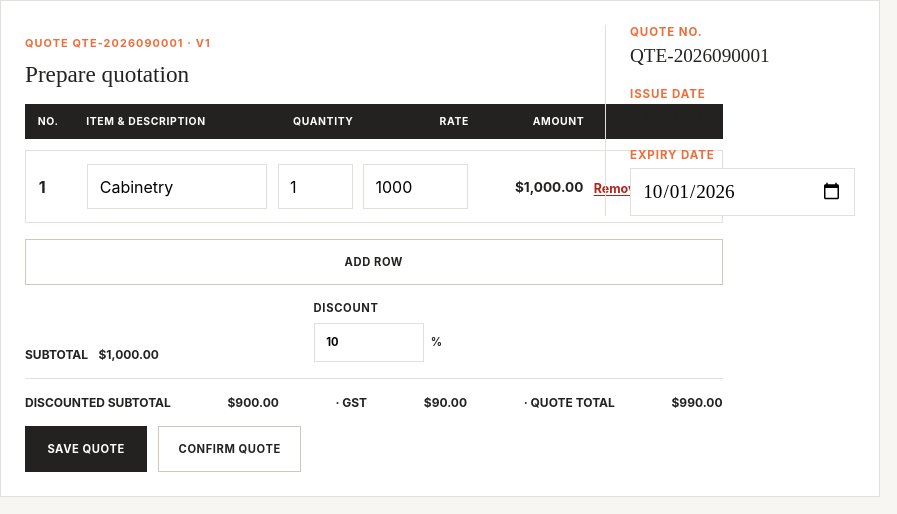
Test case: uses a percentage discount to calculate the discounted subtotal
Expected: the element that starts with "Discounted subtotal" shows "Discounted subtotal $900.00", [25,378,722,410]
Replace the text in the number field named "Quote discount percentage" with "20": (369, 342) [314,322,424,362]
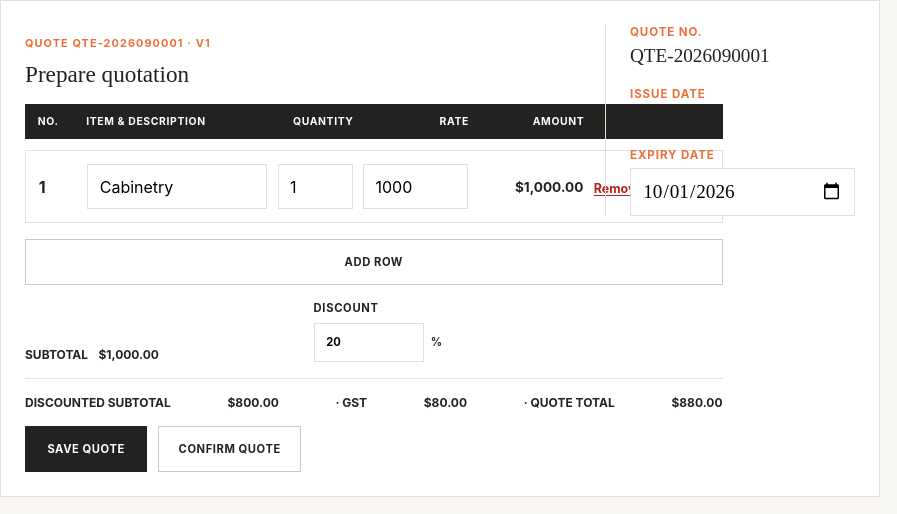
Expected: the element that starts with "Discounted subtotal" shows "Discounted subtotal $800.00", [25,378,722,410]
Expected: the element that starts with "Discounted subtotal" shows "GST $80.00", [25,378,722,410]
Expected: the element that starts with "Discounted subtotal" shows "Quote total $880.00", [25,378,722,410]
